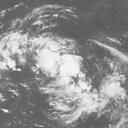cyclone: (48, 53, 86, 101)
